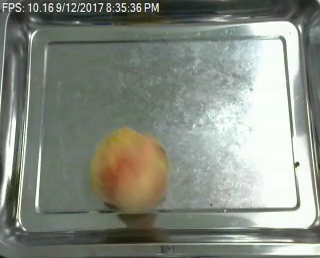Peach: (90, 127, 170, 212)
